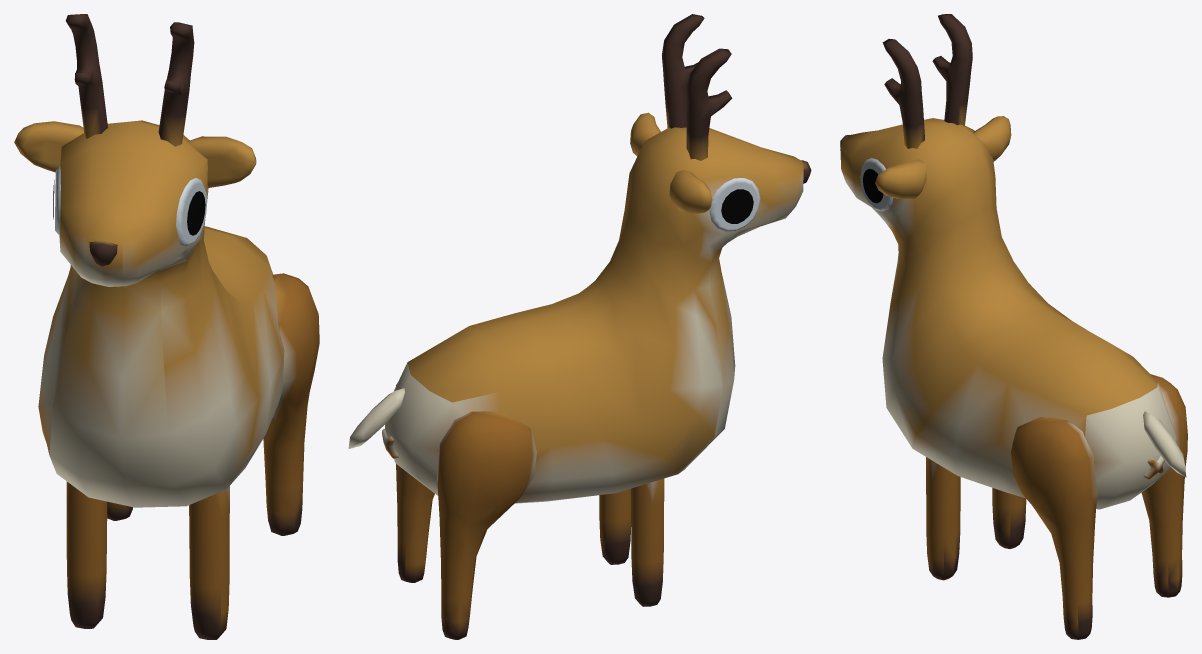
The model's file is Pronghorn.glb.
3 renders of one model, left to right at view 1: azimuth 30°, elevation 25°; view 2: azimuth 150°, elevation 25°; view 3: azimuth 270°, elevation 25°, orthographic. The views are drawn at different scales.
Parts seen in each view (by area): view 1: 130; view 2: 130; view 3: 130.
Boxes of the visible parts, x1,y1,x2,y2 form: 130: [14, 14, 319, 639]; 130: [348, 14, 811, 639]; 130: [840, 14, 1187, 639].
Bounding box in the file's own units: 0.7406 × 1.27 × 0.7821.
